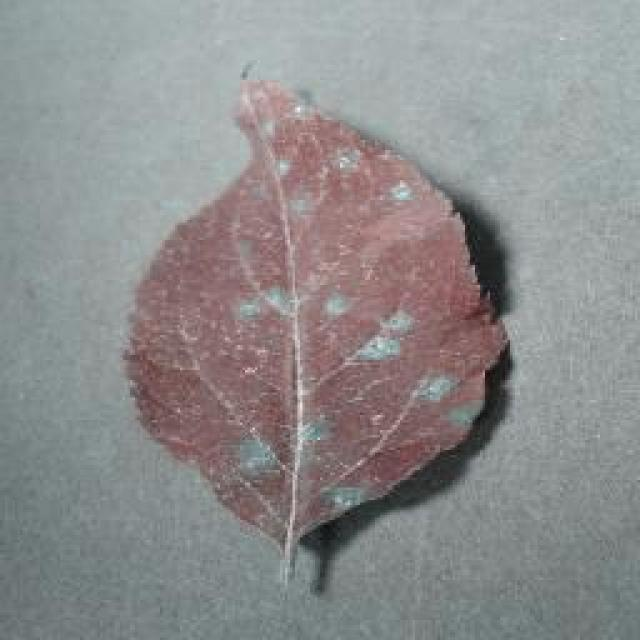apple cedar apple rust: (120, 70, 510, 582)
